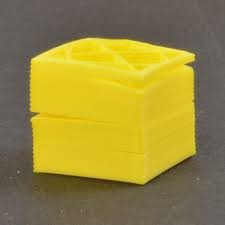fail: (78, 47, 202, 89), (19, 108, 120, 130), (118, 146, 158, 158), (173, 97, 214, 107)
